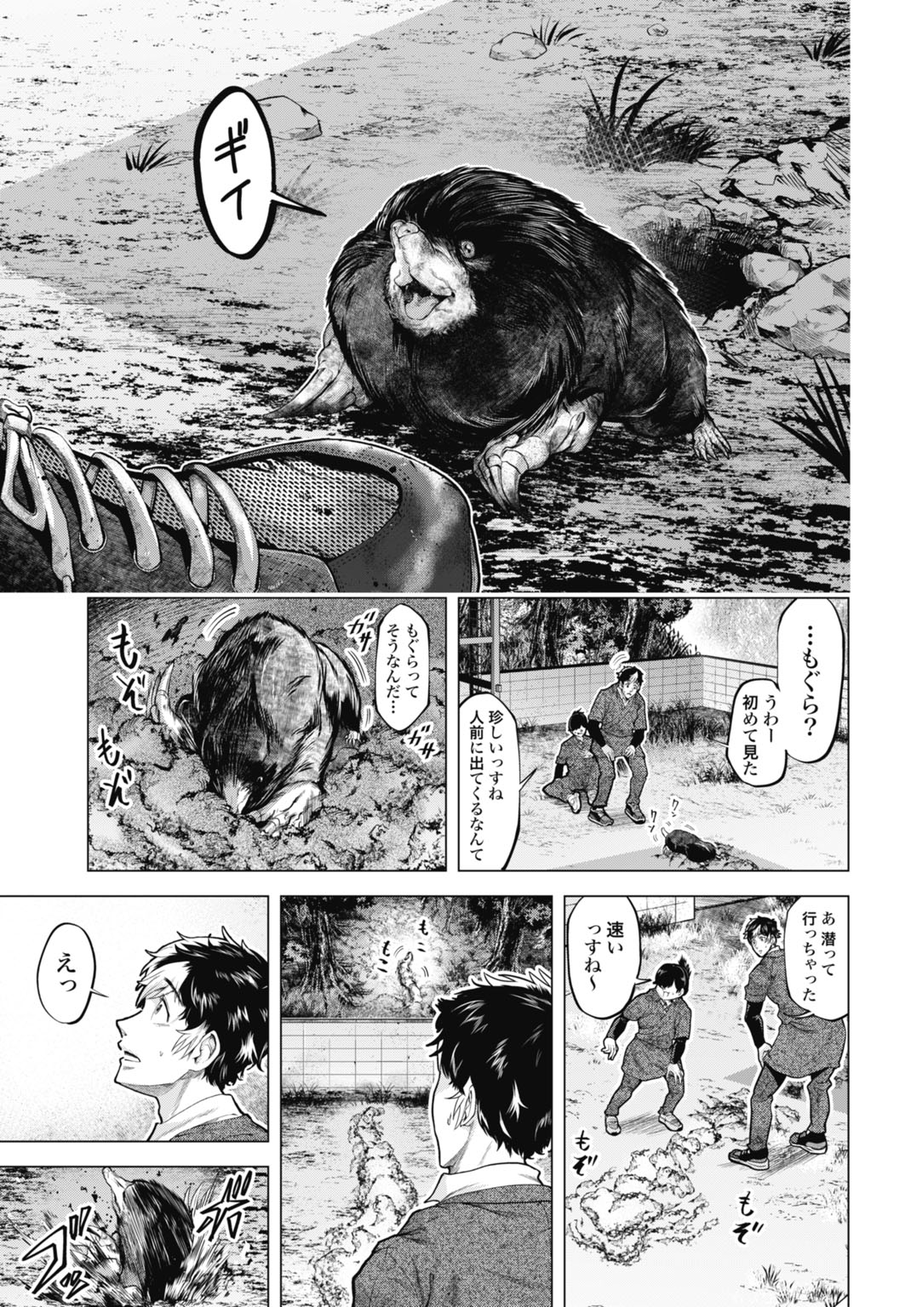bubbles: (704, 594, 847, 791), (184, 80, 333, 265), (461, 693, 532, 874), (564, 897, 653, 1024), (776, 893, 849, 1030), (32, 916, 112, 1031), (369, 601, 435, 737)
